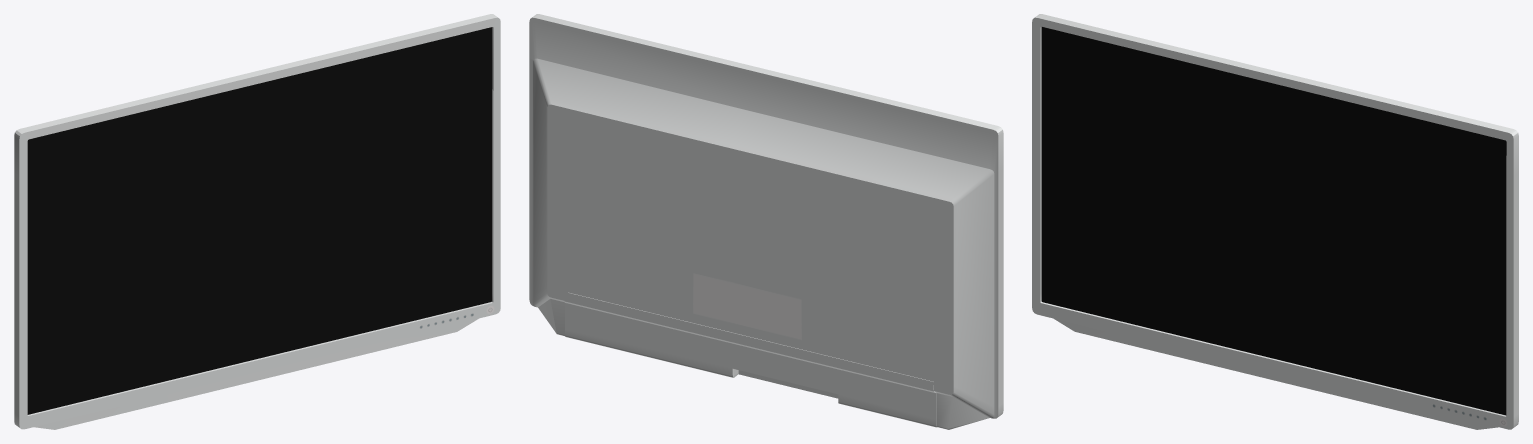
File: monitor 1.fbx
The picture shows the model from 3 angles, left to right: view 1: azimuth 30°, elevation 25°; view 2: azimuth 150°, elevation 25°; view 3: azimuth 330°, elevation 25°; orthographic projection. The views are drawn at different scales.
Visible parts, largest first — view 1: Monitor_Monitor_0; view 2: Monitor_Monitor_0; view 3: Monitor_Monitor_0.
Part boxes in pixels (<box>): Monitor_Monitor_0: <box>14,14,500,429</box>; Monitor_Monitor_0: <box>529,14,1003,429</box>; Monitor_Monitor_0: <box>1032,14,1518,429</box>.
Bounding box in the file's own units: 126 × 77.45 × 8.77.
Materials: 1 (1 with a texture image).
